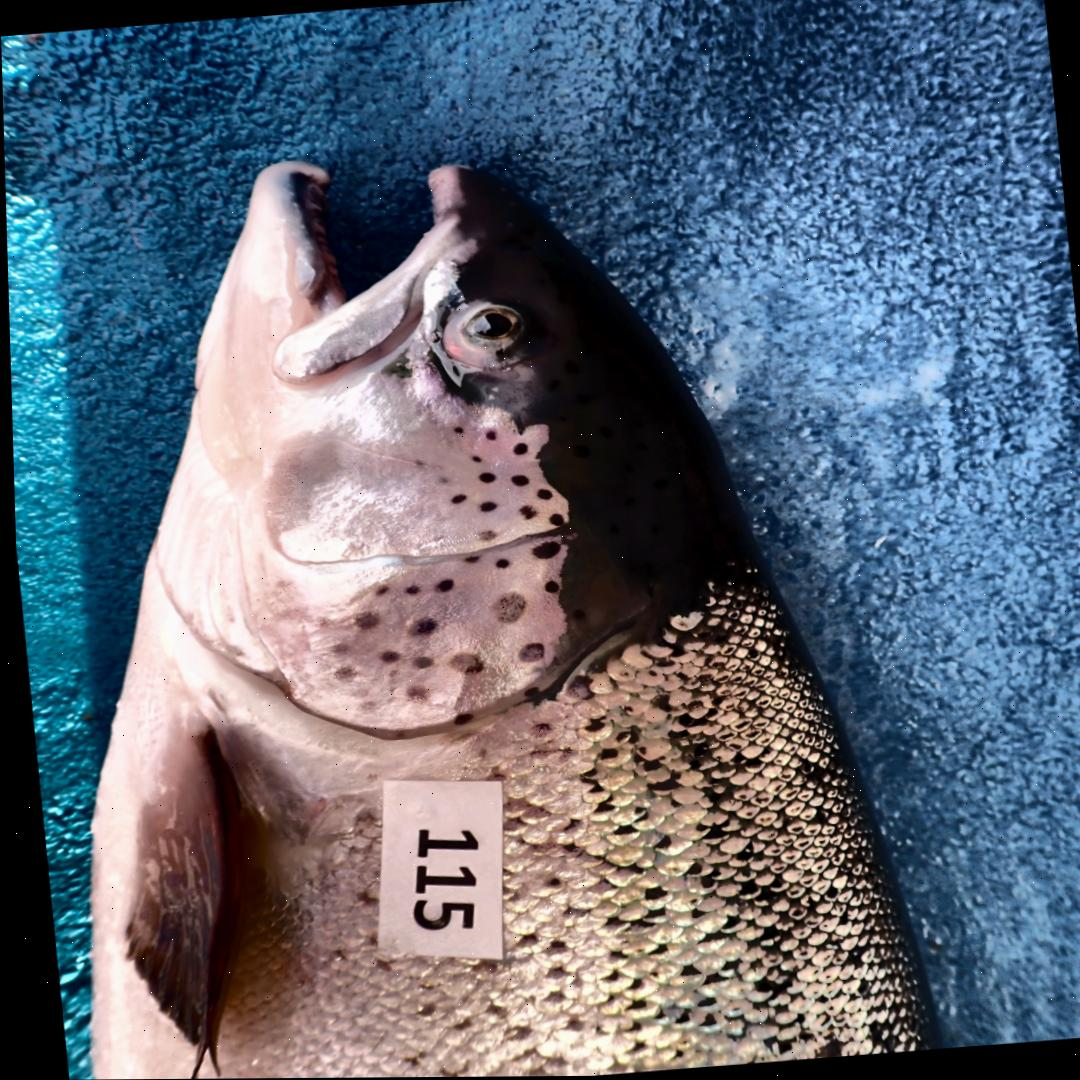spot: (490, 593, 523, 625), (443, 654, 481, 676), (327, 665, 356, 687), (348, 611, 377, 631), (529, 542, 558, 561), (515, 642, 541, 663), (324, 641, 348, 660), (401, 686, 426, 704), (353, 699, 374, 718), (516, 684, 536, 703), (410, 620, 433, 636), (375, 651, 396, 665), (407, 657, 428, 671), (448, 713, 468, 727), (456, 554, 479, 566), (475, 501, 496, 514), (310, 616, 328, 630), (507, 476, 525, 488), (516, 506, 531, 520), (433, 581, 450, 593), (546, 515, 561, 528), (541, 582, 556, 595), (475, 474, 493, 484), (510, 443, 525, 455), (475, 531, 492, 541), (532, 490, 547, 501), (448, 494, 463, 505), (492, 559, 504, 570), (450, 426, 462, 435), (467, 456, 480, 464), (483, 430, 492, 441), (401, 588, 415, 595), (410, 462, 424, 469), (434, 478, 446, 485), (372, 588, 383, 595)
